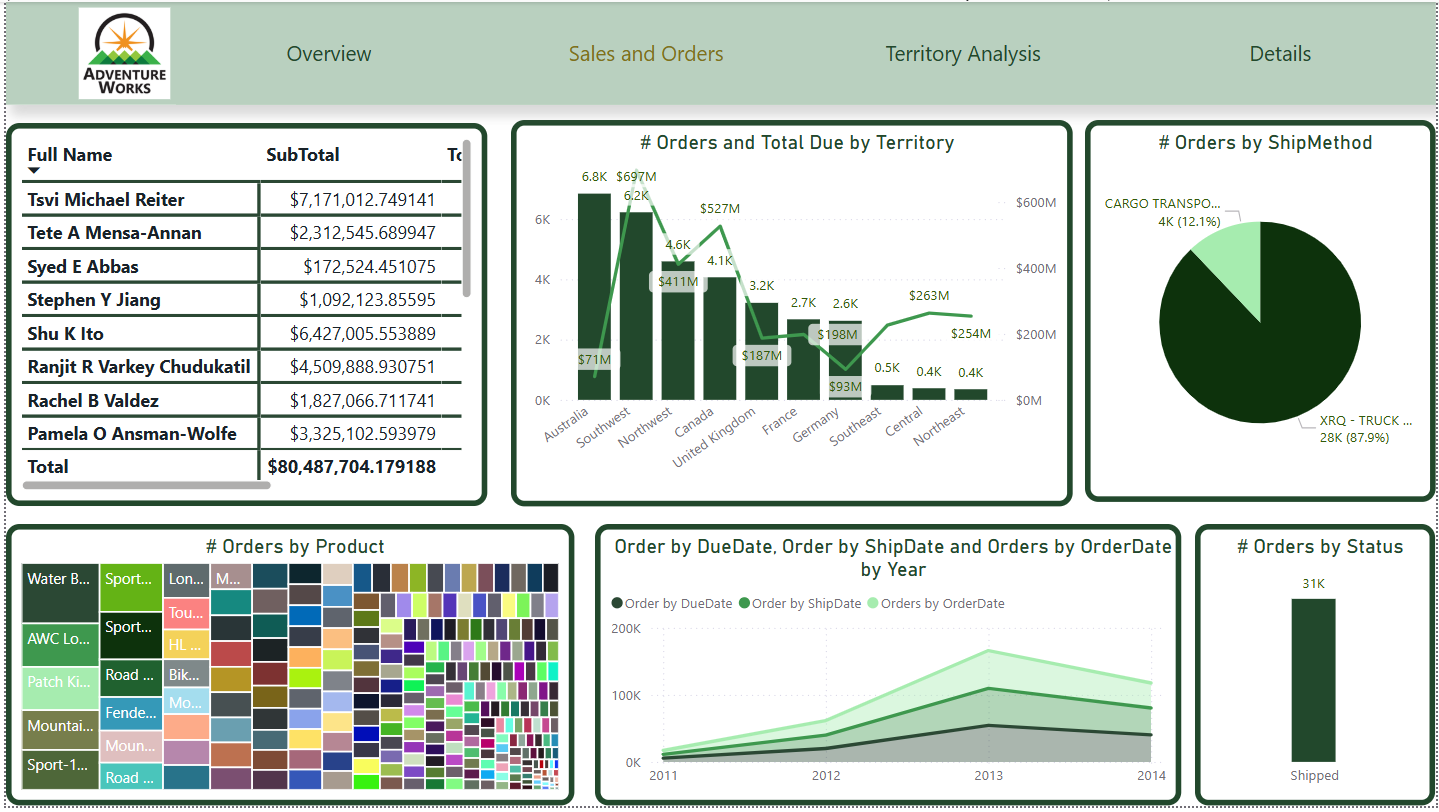

The dashboard page shown, as its layout file describes it:
{"tool":"powerbi","page":{"name":"Sales and Orders","canvas":[1280,720],"ordinal":1},"visuals":[{"type":"stackedAreaChart","fields":{"Category":["DimDate.Date Hierarchy.Year","DimDate.Date Hierarchy.Month","DimDate.Date Hierarchy.Day"],"Y":["MeasuresTable.Order by DueDate","MeasuresTable.Order by ShipDate","MeasuresTable.Orders by OrderDate"]},"box":[527.2,467.2,524.5,252.3],"z":0},{"type":"lineStackedColumnComboChart","fields":{"Category":["DimTerritories.Territory"],"Y":["MeasuresTable.# Orders"],"Y2":["MeasuresTable.Total Due"]},"box":[452.5,105.4,503.2,345.7],"z":1000},{"type":"pivotTable","fields":{"Values":["MeasuresTable.SubTotal","MeasuresTable.Total Qty","MeasuresTable.# Orders"],"Rows":["DimSalesPersonView.Full Name"]},"box":[0,108.1,431.1,343],"z":2000},{"type":"columnChart","fields":{"Category":["DimStatus.Status"],"Y":["MeasuresTable.# Orders"]},"box":[1065.1,467.2,214.9,252.3],"z":3000},{"type":"pieChart","fields":{"Y":["MeasuresTable.# Orders"],"Category":["DimShipMethods.ShipMethod"]},"box":[966.3,105.4,313.7,341.7],"z":4000},{"type":"treemap","fields":{"Values":["MeasuresTable.# Orders"],"Group":["DimProducts.Product Hierarchy.Product","DimProducts.Product Hierarchy.ProductCategory","DimProducts.Product Hierarchy.ProductSubCategory"]},"box":[0,467.2,508.5,252.3],"z":5000},{"type":"shape","box":[0,0,1280,92.3],"z":6000},{"type":"image","box":[33,0,146,92],"z":7000},{"type":"pageNavigator","box":[152,0,1128,92],"z":8000}]}

Visuals, with their boxes in screenshot pixels (x1, y1, x2, y2), scaled from the page's 1280x720 canvas onto the 1439x812 screenshot:
stackedAreaChart - DimDate.Date Hierarchy.Year x DimDate.Date Hierarchy.Month: {"x1": 593, "y1": 527, "x2": 1182, "y2": 811}
lineStackedColumnComboChart - DimTerritories.Territory x MeasuresTable.# Orders: {"x1": 509, "y1": 119, "x2": 1074, "y2": 509}
pivotTable - MeasuresTable.SubTotal x MeasuresTable.Total Qty: {"x1": 0, "y1": 122, "x2": 485, "y2": 509}
columnChart - DimStatus.Status x MeasuresTable.# Orders: {"x1": 1197, "y1": 527, "x2": 1438, "y2": 811}
pieChart - MeasuresTable.# Orders x DimShipMethods.ShipMethod: {"x1": 1086, "y1": 119, "x2": 1438, "y2": 504}
treemap - MeasuresTable.# Orders x DimProducts.Product Hierarchy.Product: {"x1": 0, "y1": 527, "x2": 572, "y2": 811}
shape: {"x1": 0, "y1": 0, "x2": 1438, "y2": 104}
image: {"x1": 37, "y1": 0, "x2": 201, "y2": 104}
pageNavigator: {"x1": 171, "y1": 0, "x2": 1438, "y2": 104}
